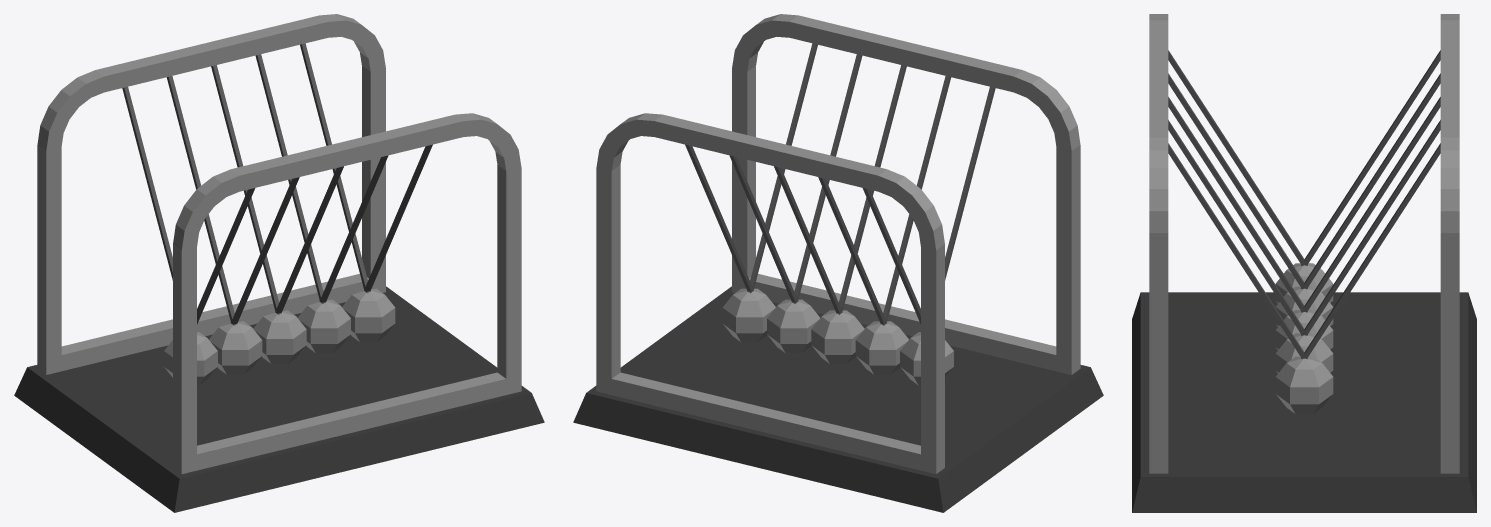
The model's file is Pendulum_01.fbx.
3 views of the same model, side by side, from view 1: azimuth 30°, elevation 25°; view 2: azimuth 150°, elevation 25°; view 3: azimuth 270°, elevation 25° (orthographic). The views are drawn at different scales.
Visible parts, largest first — view 1: Pendulum_01; view 2: Pendulum_01; view 3: Pendulum_01.
Boxes of the visible parts, x1=… form: Pendulum_01: x1=14, y1=14, x2=544, y2=512; Pendulum_01: x1=573, y1=14, x2=1103, y2=512; Pendulum_01: x1=1132, y1=14, x2=1476, y2=512.
Bounding box in the file's own units: 20 × 16.18 × 15.
